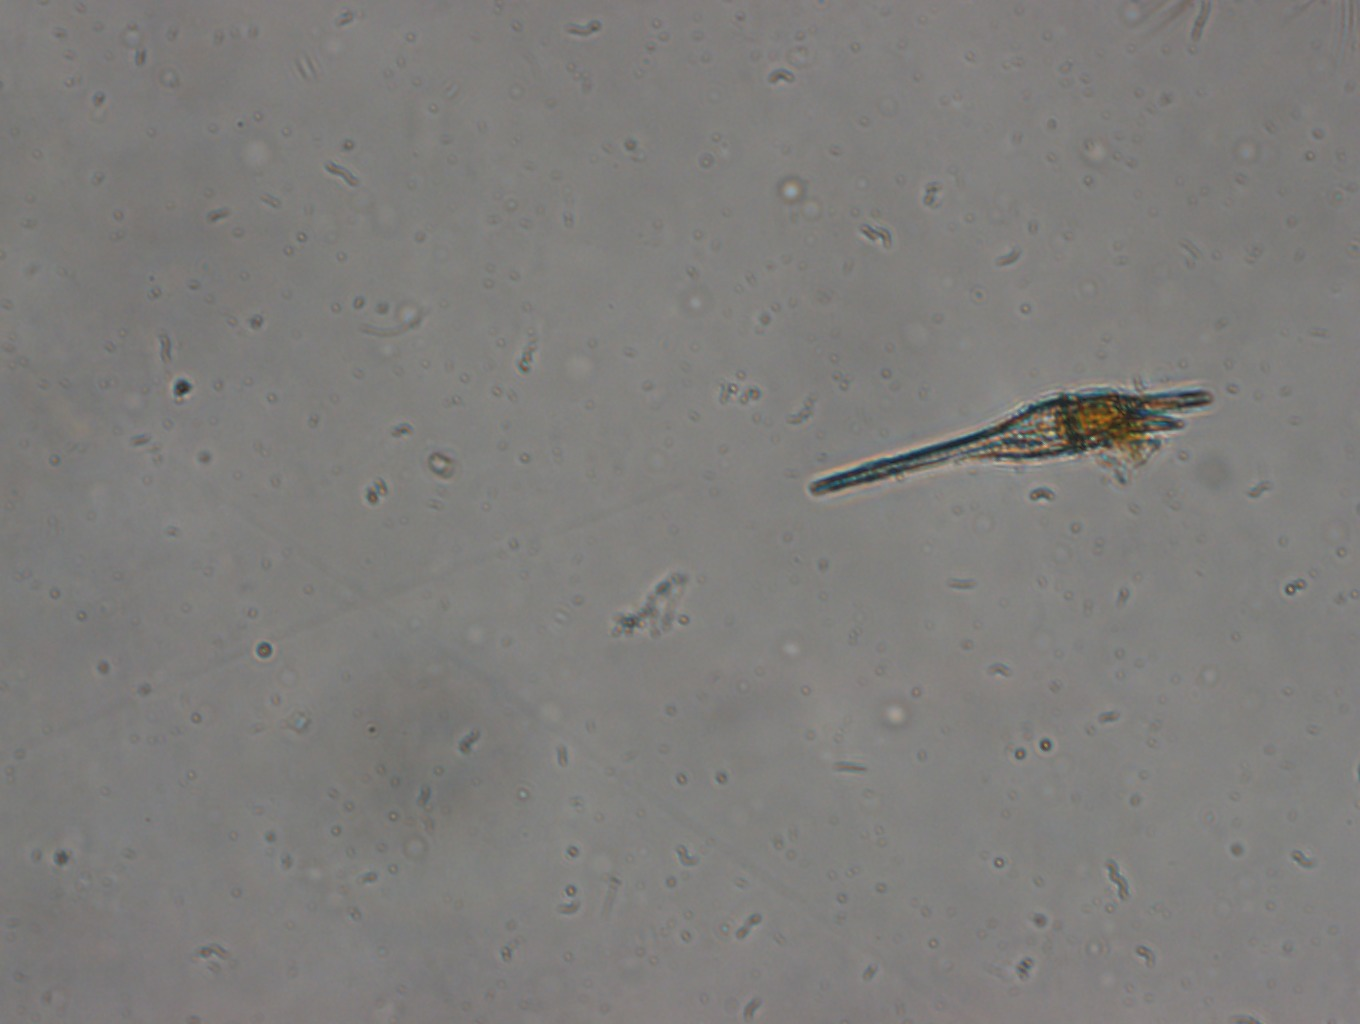ceratium furca: (802, 360, 1220, 514)
